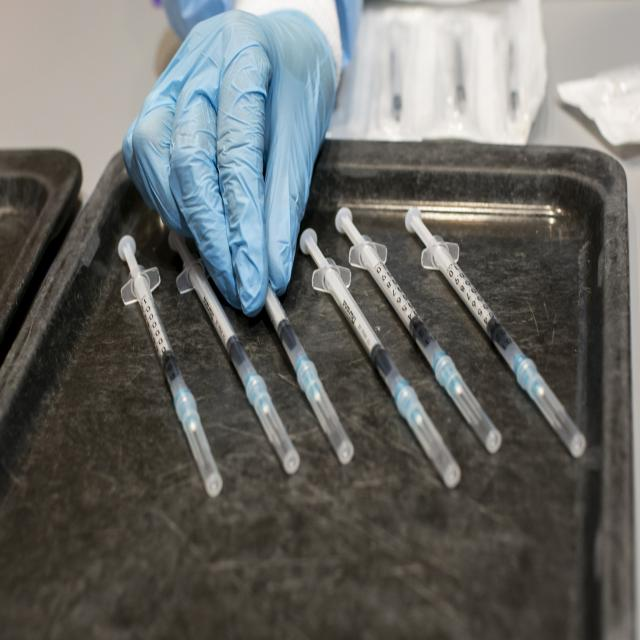B3: (397, 192, 589, 460), (329, 203, 509, 446)
